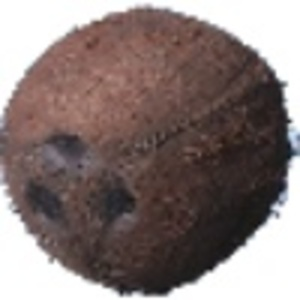coco: (1, 6, 300, 297)
